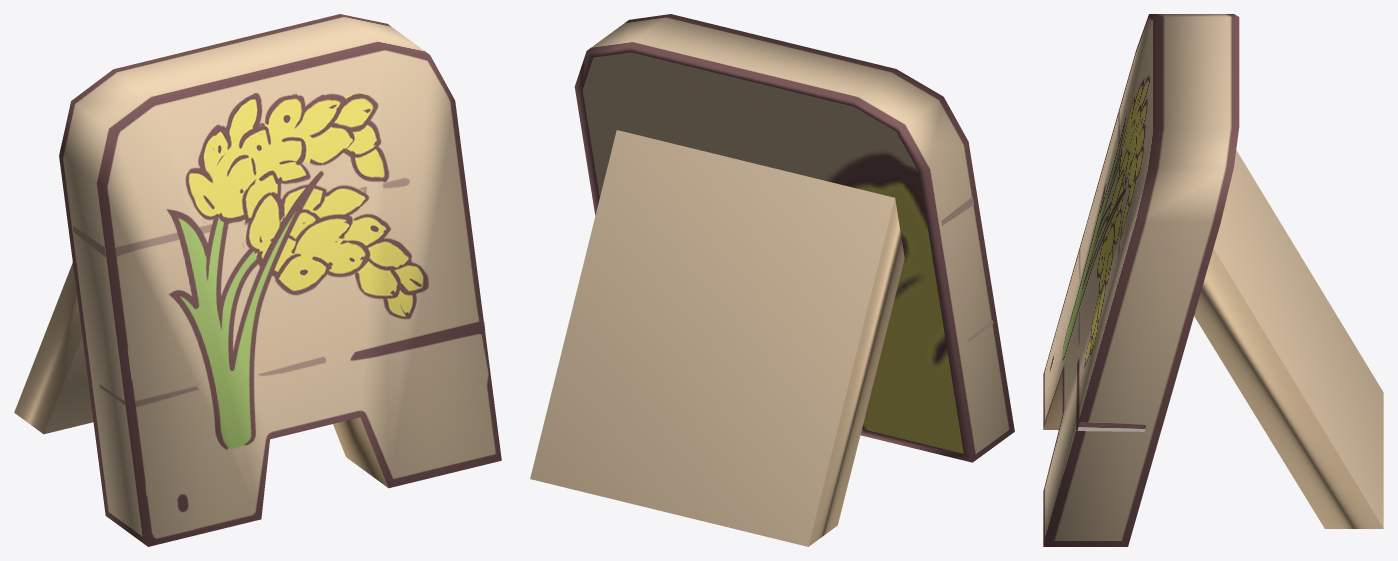
File: Mesh_Home_BH_Farm_Brand_04_SM.fbx
The picture shows the model from 3 angles, left to right: view 1: azimuth 30°, elevation 25°; view 2: azimuth 150°, elevation 25°; view 3: azimuth 270°, elevation 25°; orthographic projection.
Parts seen in each view (by area): view 1: Mesh_Home_BH_Farm_Brand_04; view 2: Mesh_Home_BH_Farm_Brand_04; view 3: Mesh_Home_BH_Farm_Brand_04.
Boxes of the visible parts, x1,y1,x2,y2 form: Mesh_Home_BH_Farm_Brand_04: (14,14,501,546); Mesh_Home_BH_Farm_Brand_04: (530,14,1014,546); Mesh_Home_BH_Farm_Brand_04: (1043,14,1383,546).
Size of the model in its own units: 37.37 by 39.25 by 31.16.
